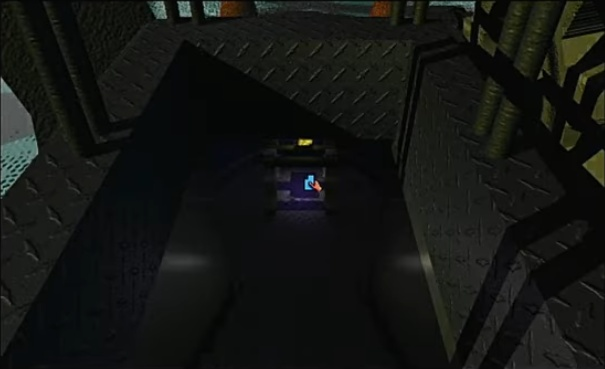Keep: (301, 169, 323, 200)
